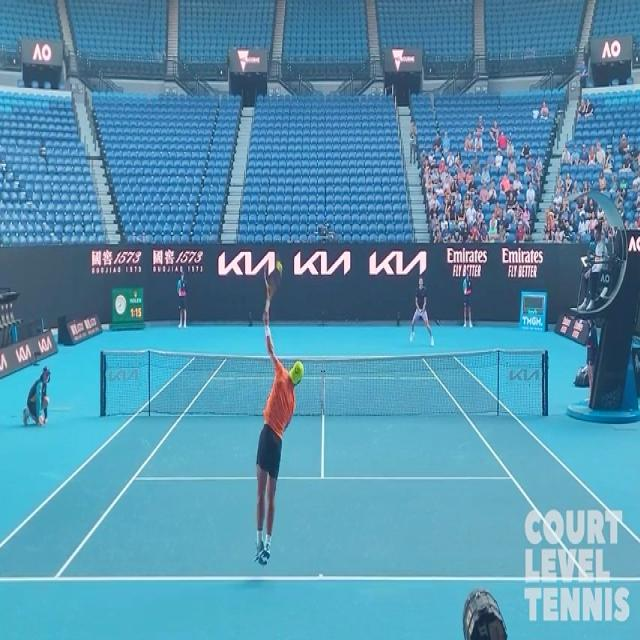serve_hit: (232, 251, 316, 577)
